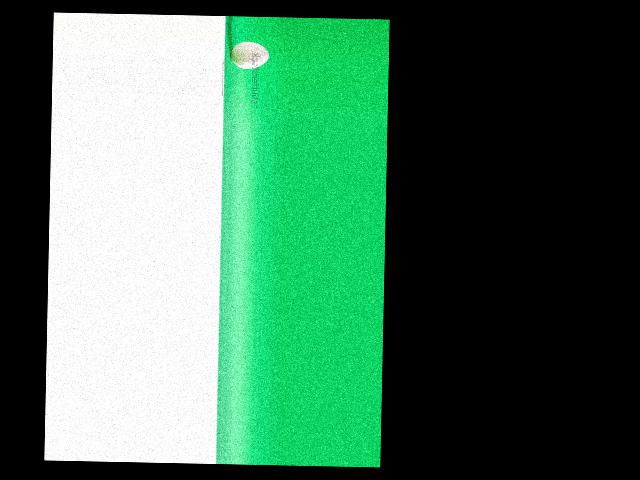egg: (229, 40, 268, 69)
